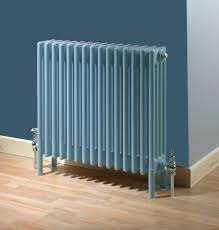Radiator: (31, 38, 178, 182)
